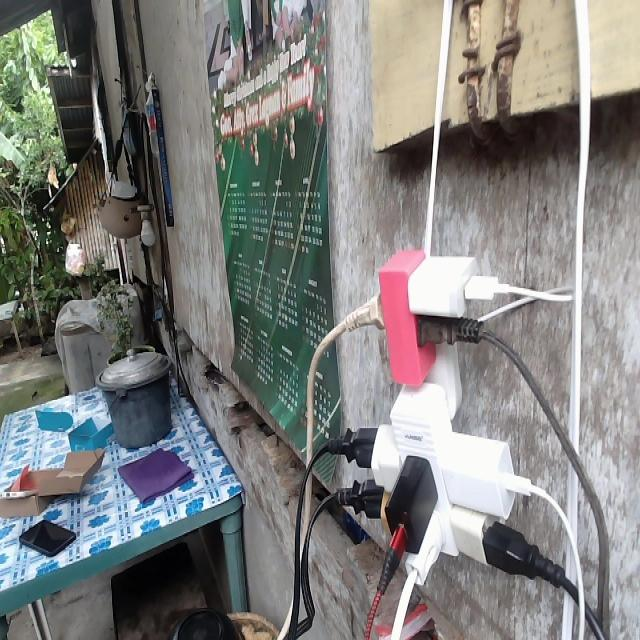-: (309, 237, 604, 615)
